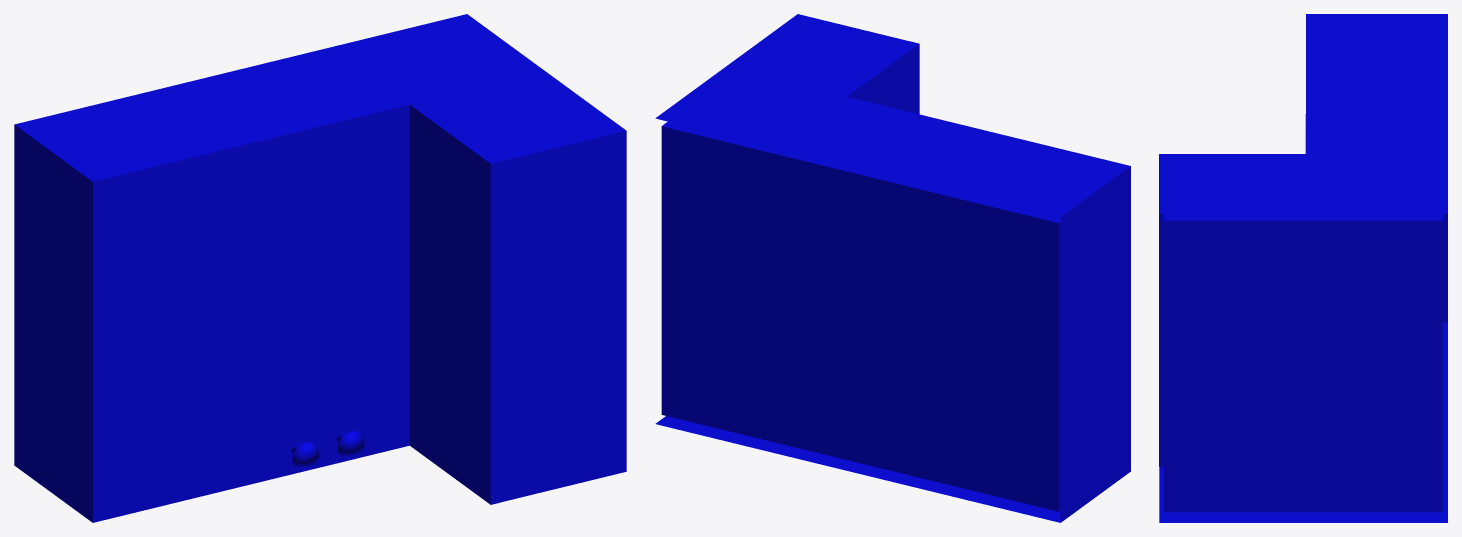
File: Object_CnrCupboardRight.fbx
3 views of the same model, side by side, from view 1: azimuth 30°, elevation 25°; view 2: azimuth 150°, elevation 25°; view 3: azimuth 270°, elevation 25° (orthographic). The views are drawn at different scales.
Visible parts, largest first — view 1: CupboardCornerRight_Body_LOW, CupboardCornerRight_LeftDoor_LOW, CupboardCornerRight_CnrDoor_LOW; view 2: CupboardCornerRight_Body_LOW, CupboardCornerRight_CnrDoor_LOW, CupboardCornerRight_LeftDoor_LOW; view 3: CupboardCornerRight_Body_LOW, CupboardCornerRight_CnrDoor_LOW, CupboardCornerRight_LeftDoor_LOW.
Boxes of the visible parts, x1,y1,x2,y2 form: CupboardCornerRight_Body_LOW: (14, 14, 626, 518); CupboardCornerRight_LeftDoor_LOW: (87, 123, 319, 522); CupboardCornerRight_CnrDoor_LOW: (314, 98, 499, 504); CupboardCornerRight_Body_LOW: (655, 14, 1126, 522); CupboardCornerRight_CnrDoor_LOW: (834, 41, 927, 119); CupboardCornerRight_LeftDoor_LOW: (924, 116, 1130, 474); CupboardCornerRight_Body_LOW: (1159, 14, 1447, 522); CupboardCornerRight_CnrDoor_LOW: (1159, 114, 1315, 466); CupboardCornerRight_LeftDoor_LOW: (1306, 14, 1315, 113).
Size of the model in its own units: 1 by 0.72 by 0.61.
